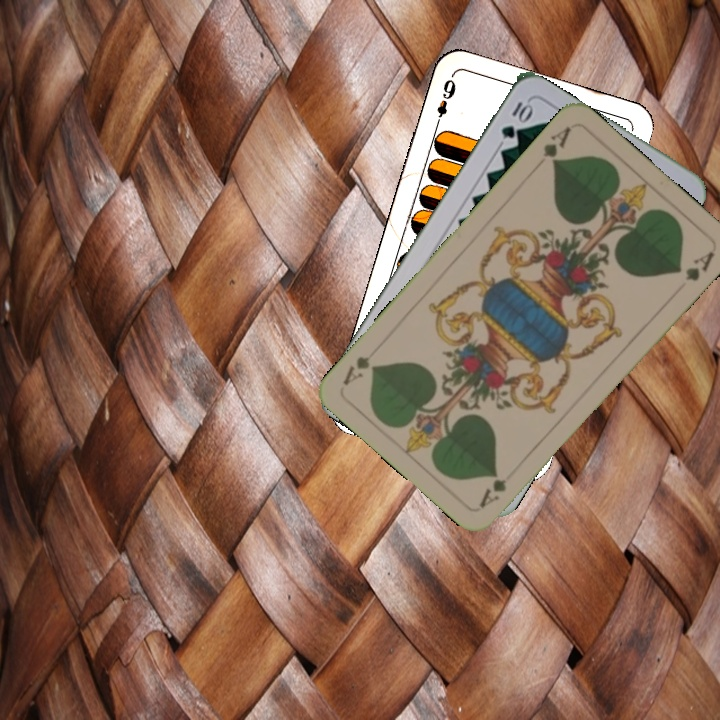E9: (431, 75, 459, 130)
G10: (496, 97, 535, 141)
GA: (539, 122, 574, 167), (475, 474, 509, 511)
